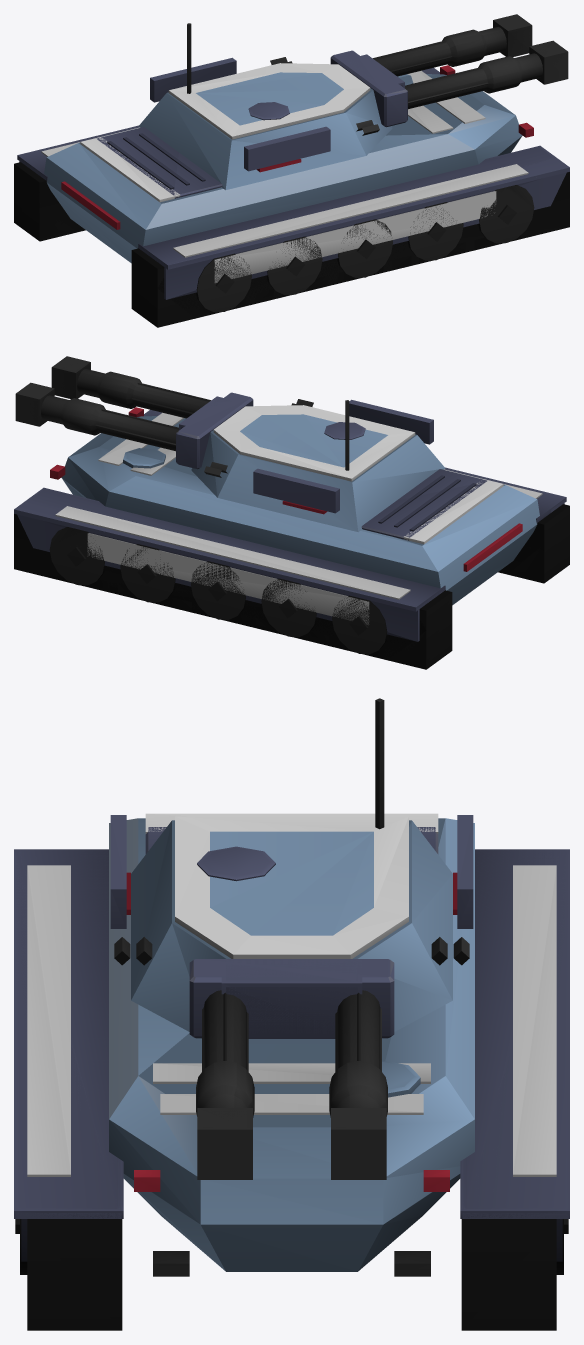
File: veyran_heavy_tank.glb
3 renders of one model, top to bottom at view 1: azimuth 30°, elevation 25°; view 2: azimuth 150°, elevation 25°; view 3: azimuth 270°, elevation 25°, orthographic. The views are drawn at different scales.
Parts seen in each view (by area): view 1: hull (×3), turret (×2), barrel (×2); view 2: hull (×3), turret, barrel (×2); view 3: hull (×3), turret (×2), barrel (×2).
Boxes of the visible parts, x1,y1,x2,y2 form: hull (×3): [14, 65, 569, 327]; turret (×2): [138, 23, 404, 190]; barrel (×2): [330, 14, 568, 127]; hull (×3): [14, 407, 569, 669]; turret: [181, 398, 445, 532]; barrel (×2): [15, 356, 253, 469]; hull (×3): [14, 813, 569, 1330]; turret (×2): [110, 698, 473, 1043]; barrel (×2): [189, 959, 394, 1179].
Size of the model in its own units: 6.65 by 2.82 by 3.8.
